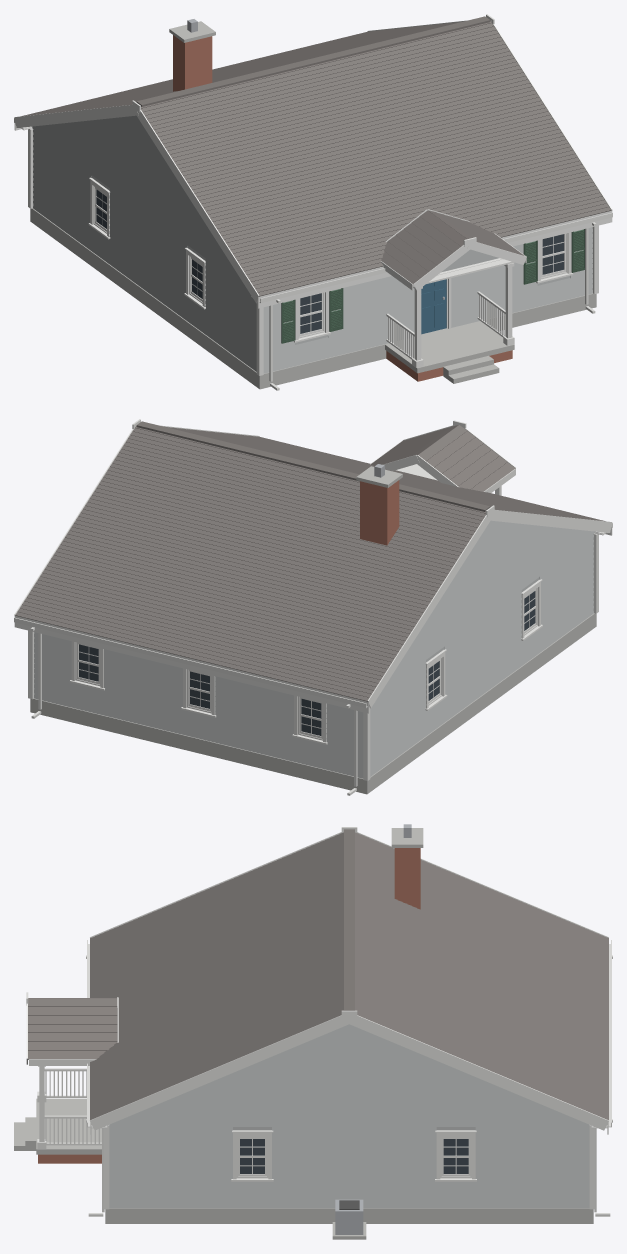
Rendered from SM_House_1F_B.fbx.
3 views of the same model, one above another, from view 1: azimuth 30°, elevation 25°; view 2: azimuth 150°, elevation 25°; view 3: azimuth 270°, elevation 25° (orthographic). The views are drawn at different scales.
Visible parts, largest first — view 1: SM_House_1F_B_LOD0; view 2: SM_House_1F_B_LOD0; view 3: SM_House_1F_B_LOD0.
Boxes of the visible parts, box(x1,y1,x2,y2) form: SM_House_1F_B_LOD0: box(14, 14, 612, 390); SM_House_1F_B_LOD0: box(14, 419, 612, 795); SM_House_1F_B_LOD0: box(14, 824, 612, 1239).
Size of what is drawn, in the model's own units: 12.4 by 7.75 by 16.07.
